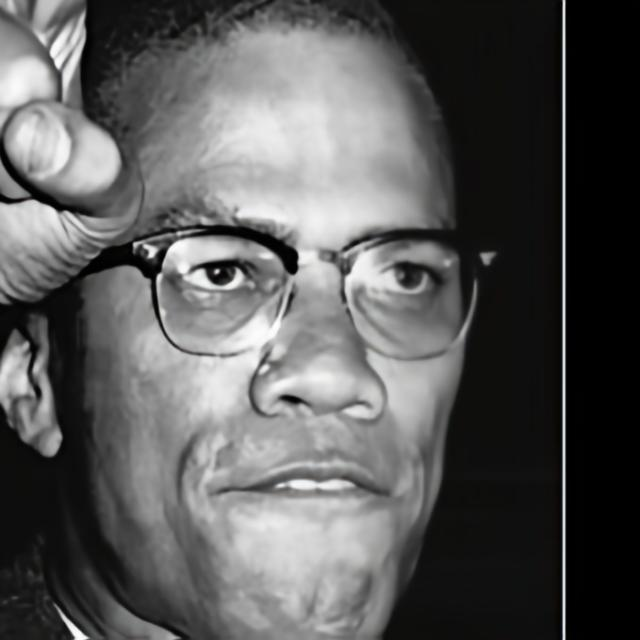anger: (72, 106, 474, 626)
